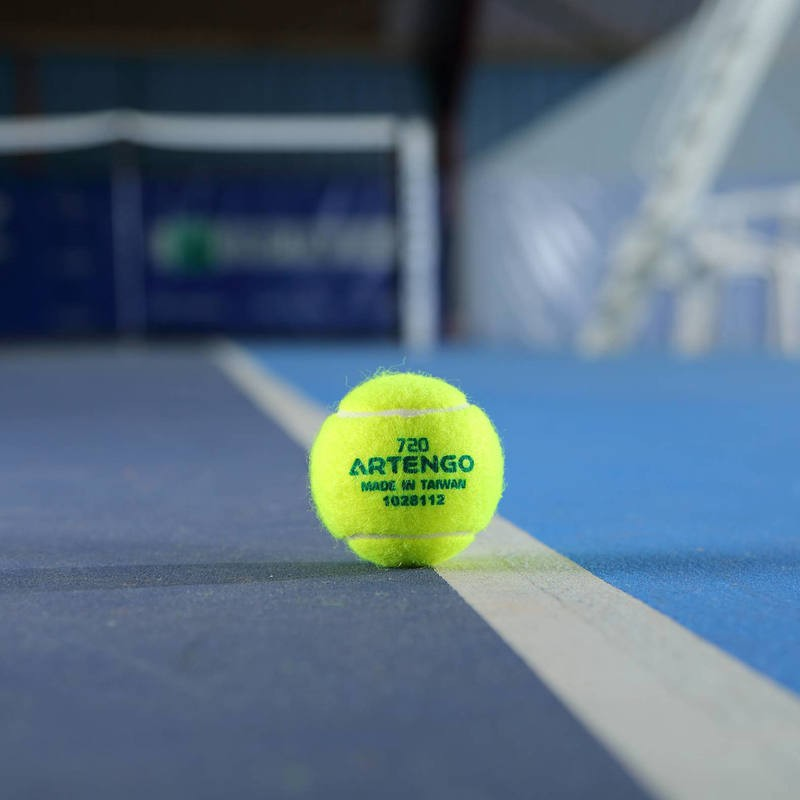aim: (305, 373, 509, 573)
